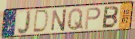B: (101, 6, 119, 30)
D: (32, 9, 50, 35)
J: (17, 9, 33, 36)
N: (51, 8, 68, 32)
P: (84, 7, 102, 31)
Q: (67, 8, 84, 32)
